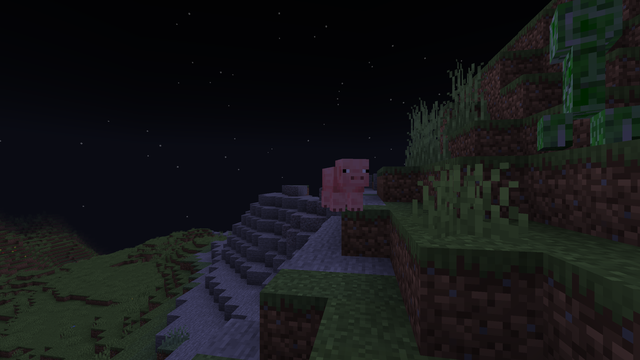cochons: (317, 165, 363, 211)
creepers: (536, 0, 639, 149)
